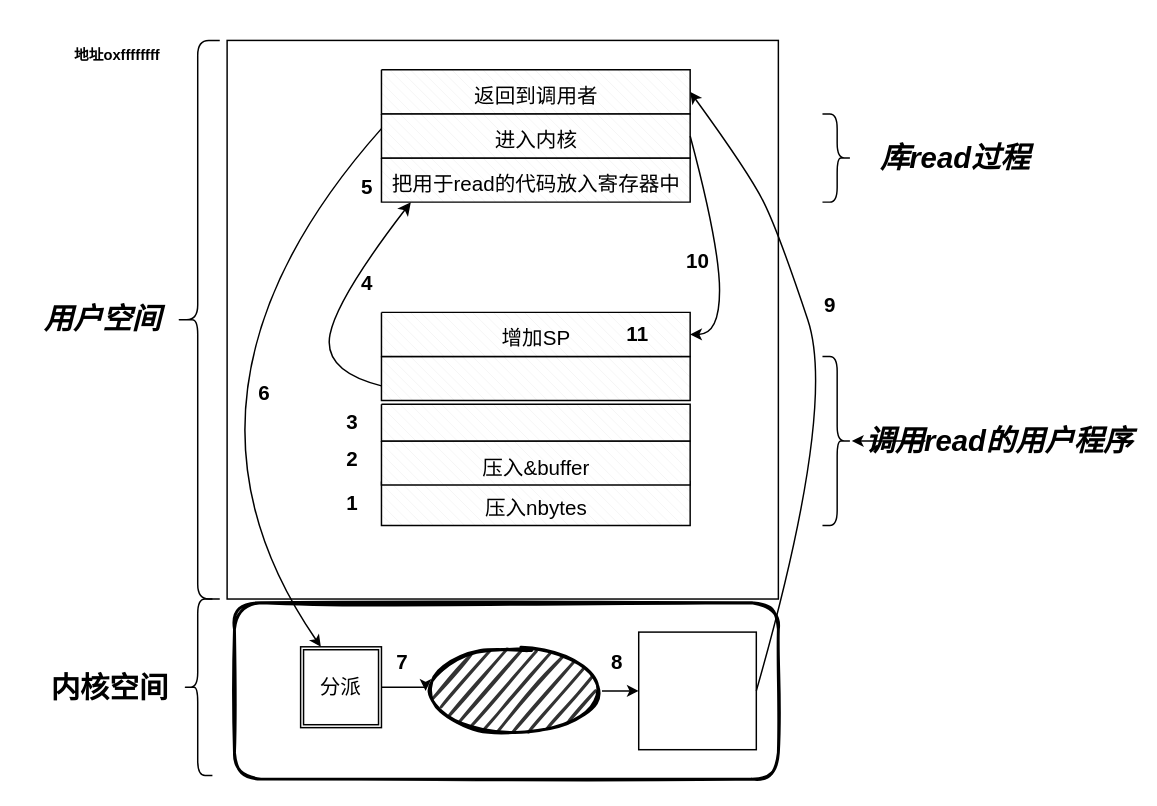
Image size: 1157x806. Some labels were removed from this diagram. Each missing label, with the centre of its shape:
压入fd: the point at 535,422
系统调用处理程序: the point at 696,690
调用read: the point at 535,378
